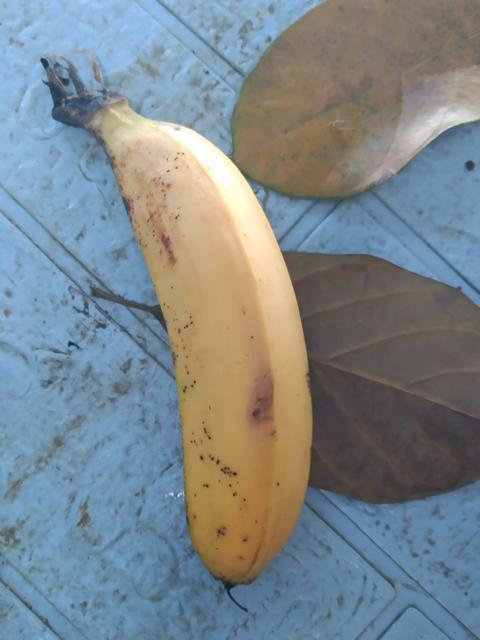ripe: (92, 115, 371, 590)
